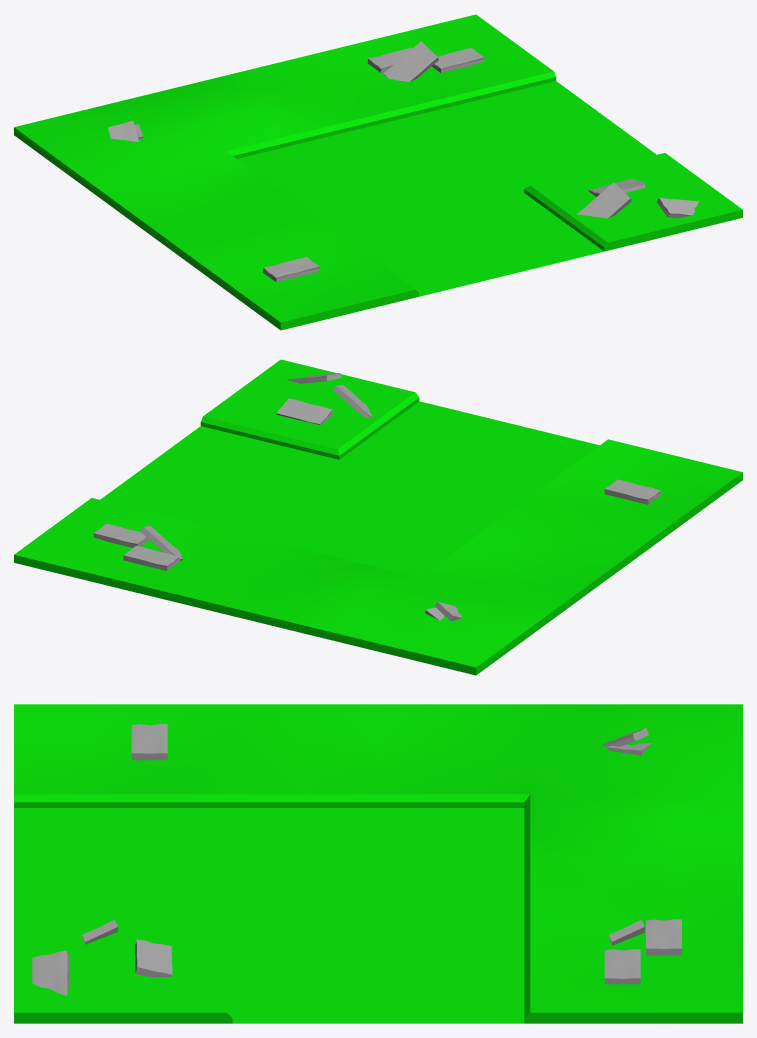
The model's file is L-tile.fbx.
3 views of the same model, one above another, from view 1: azimuth 30°, elevation 25°; view 2: azimuth 150°, elevation 25°; view 3: azimuth 270°, elevation 25° (orthographic). The views are drawn at different scales.
Visible parts, largest first — view 1: corner; view 2: corner; view 3: corner.
Boxes of the visible parts, x1,y1,x2,y2 form: corner: (14,14,742,330); corner: (14,359,742,675); corner: (14,704,742,1023).
Size of the model in its own units: 1300 by 97.7 by 1300.
